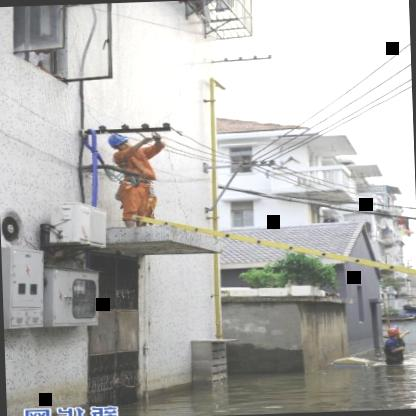helmet: (104, 132, 135, 154), (382, 325, 403, 339)
